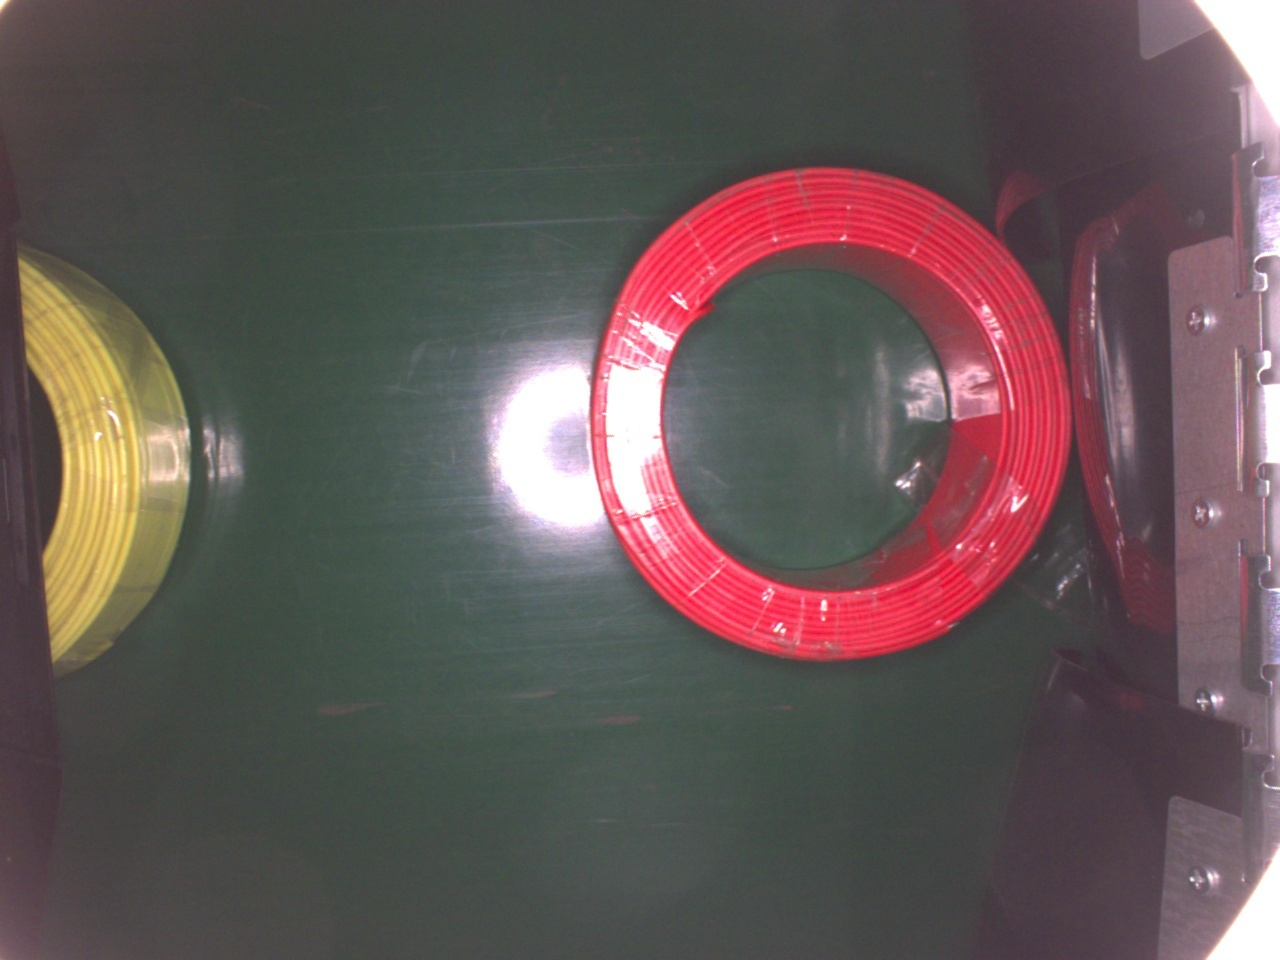red: (573, 153, 1095, 669)
yellow: (17, 241, 194, 675)
